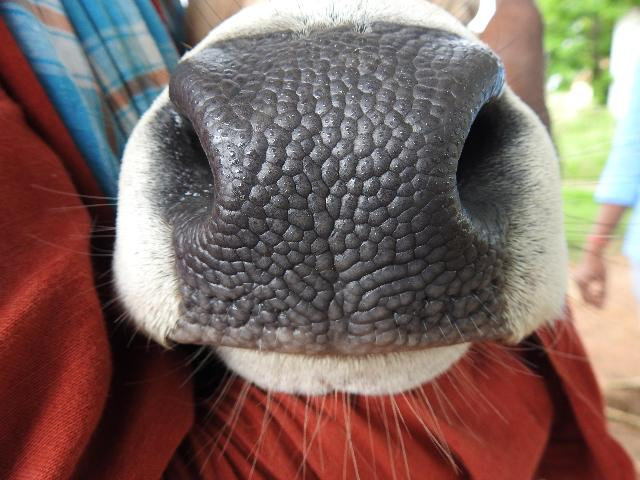Muzzle: (193, 56, 454, 332)
